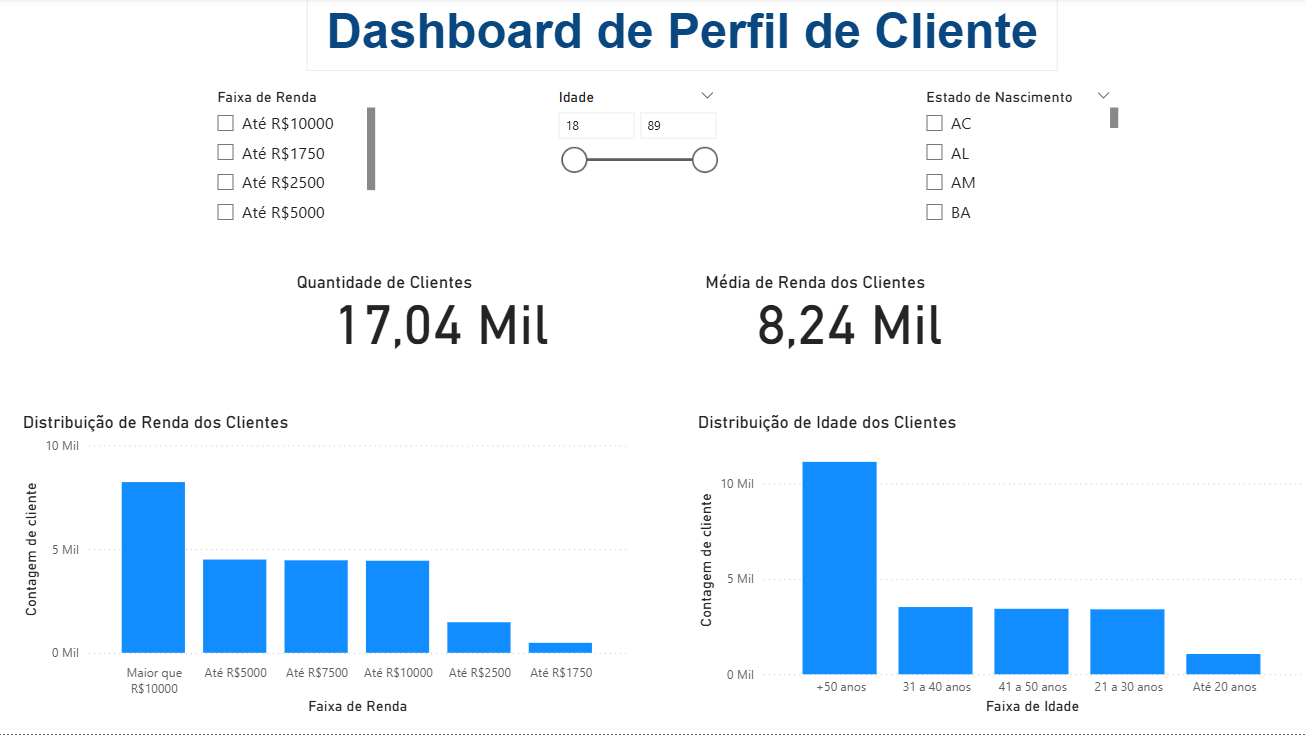

This screenshot's page, from the dashboard's own definition file:
{"tool":"powerbi","page":{"name":"Perfil do Cliente","canvas":[1280,720],"ordinal":1},"visuals":[{"type":"textbox","box":[302,0,734.9,70.9],"z":0},{"type":"card","title":"Quantidade de  Clientes","fields":{"Values":["Count(Base cliente.cliente_Log)"]},"box":[287.6,268.3,292.3,91.7],"z":1000},{"type":"card","title":"Média de Renda dos Clientes","fields":{"Values":["Avg(Base cliente.renda)"]},"box":[687.5,268.3,292.3,91.7],"z":2000},{"type":"lineClusteredColumnComboChart","title":"Distribuição de Renda dos Clientes","fields":{"Category":["Base cliente.Faixa de Renda"],"Y":["Count(Base cliente.cliente_Log)"]},"box":[19.3,404.5,600.4,300.8],"z":3000},{"type":"columnChart","title":"Distribuição de Idade dos Clientes","fields":{"Category":["Base cliente.Faixa de Idade"],"Y":["Count(Base cliente.cliente_Log)"]},"box":[679.6,404.5,600.4,300.8],"z":4000},{"type":"slicer","fields":{"Values":["Base cliente.idade"]},"box":[535.1,82.7,177.3,160.2],"z":5000},{"type":"slicer","fields":{"Values":["Base cliente.Faixa de Renda"]},"box":[201.8,83.2,172.4,148],"z":6000},{"type":"slicer","fields":{"Values":["Base cliente.uf_nascimento"]},"box":[895.1,83.2,205.4,150.4],"z":7000}]}

Visuals, with their boxes in screenshot pixels (x1, y1, x2, y2), scaled from the page's 1280x720 canvas onto the 1305x735 screenshot:
textbox: pyautogui.locateOnScreen(308, 0, 1057, 72)
"Quantidade de  Clientes" card: pyautogui.locateOnScreen(293, 274, 591, 368)
"Média de Renda dos Clientes" card: pyautogui.locateOnScreen(701, 274, 999, 368)
"Distribuição de Renda dos Clientes" lineClusteredColumnComboChart: pyautogui.locateOnScreen(20, 413, 632, 720)
"Distribuição de Idade dos Clientes" columnChart: pyautogui.locateOnScreen(693, 413, 1304, 720)
slicer - Base cliente.idade: pyautogui.locateOnScreen(546, 84, 726, 248)
slicer - Base cliente.Faixa de Renda: pyautogui.locateOnScreen(206, 85, 382, 236)
slicer - Base cliente.uf_nascimento: pyautogui.locateOnScreen(913, 85, 1122, 238)
